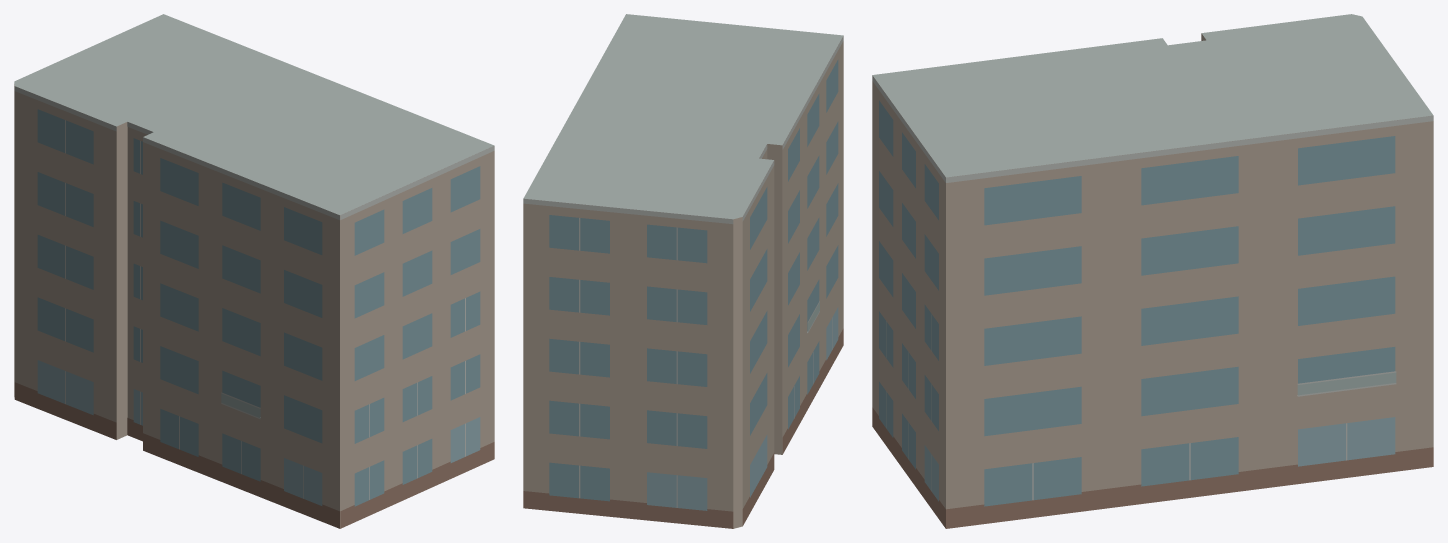
Rendered from survey-upis-32963656.glb.
3 renders of one model, left to right at view 1: azimuth 30°, elevation 25°; view 2: azimuth 150°, elevation 25°; view 3: azimuth 270°, elevation 25°, orthographic. The views are drawn at different scales.
Parts seen in each view (by area): view 1: survey-upis-32963656.tmp; view 2: survey-upis-32963656.tmp; view 3: survey-upis-32963656.tmp.
Boxes of the visible parts, box(x1,y1,x2,y2) form: survey-upis-32963656.tmp: box(14, 14, 494, 528); survey-upis-32963656.tmp: box(523, 14, 843, 528); survey-upis-32963656.tmp: box(872, 14, 1433, 528).
Size of the model in its own units: 15.23 by 15.25 by 22.09.
